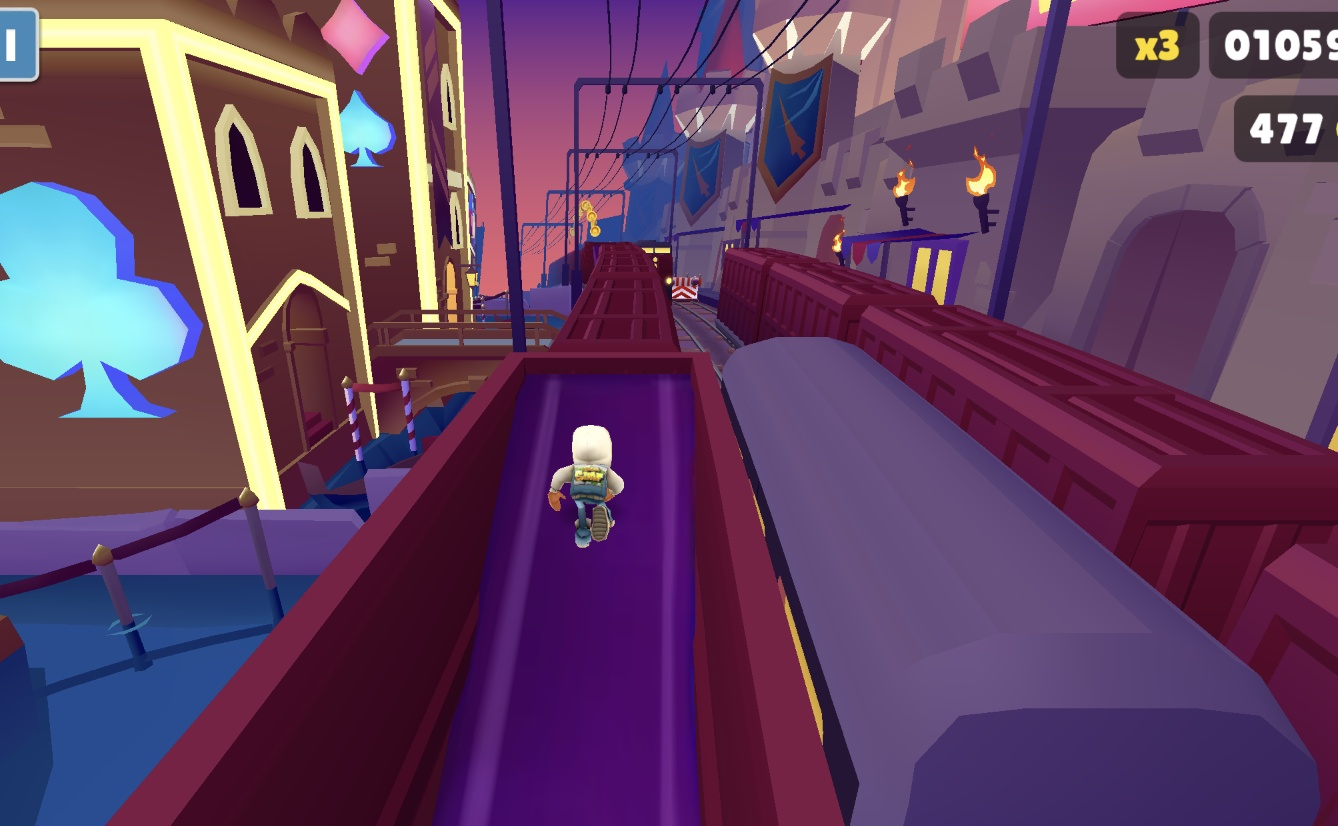train: (122, 242, 841, 826), (686, 240, 1338, 674), (699, 372, 1266, 826)
